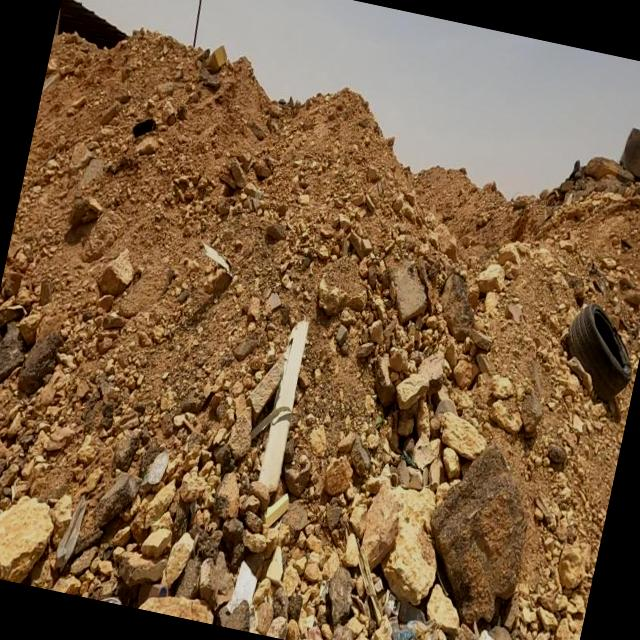debris: (502, 228, 640, 450), (321, 521, 495, 640), (436, 569, 534, 640), (0, 453, 26, 580)
